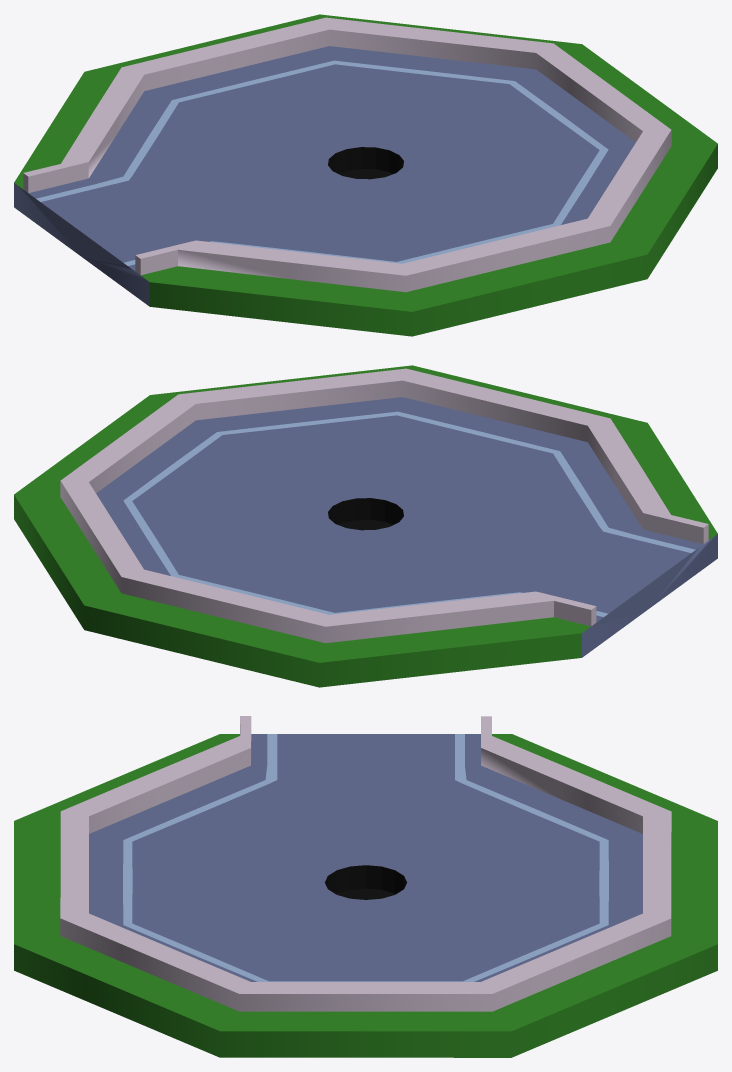
The model's file is Hex Hole.fbx.
3 renders of one model, top to bottom at view 1: azimuth 30°, elevation 25°; view 2: azimuth 150°, elevation 25°; view 3: azimuth 270°, elevation 25°, orthographic. The views are drawn at different scales.
Visible parts, largest first — view 1: Cylinder007; view 2: Cylinder007; view 3: Cylinder007.
Boxes of the visible parts, x1,y1,x2,y2 form: Cylinder007: [14, 14, 717, 336]; Cylinder007: [14, 365, 717, 687]; Cylinder007: [14, 716, 717, 1057].
Bounding box in the file's own units: 122 × 8.44 × 122.
